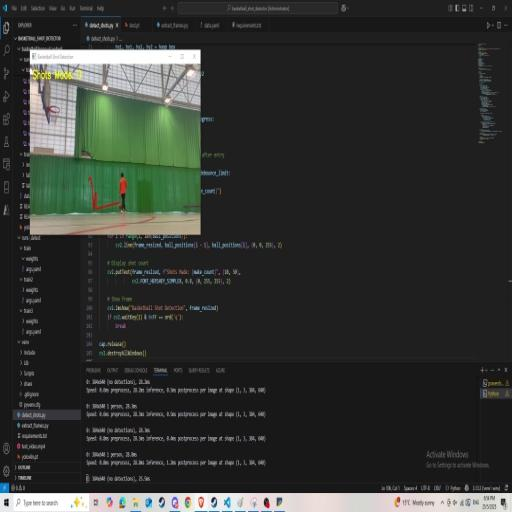hoops: (47, 102, 61, 127)
